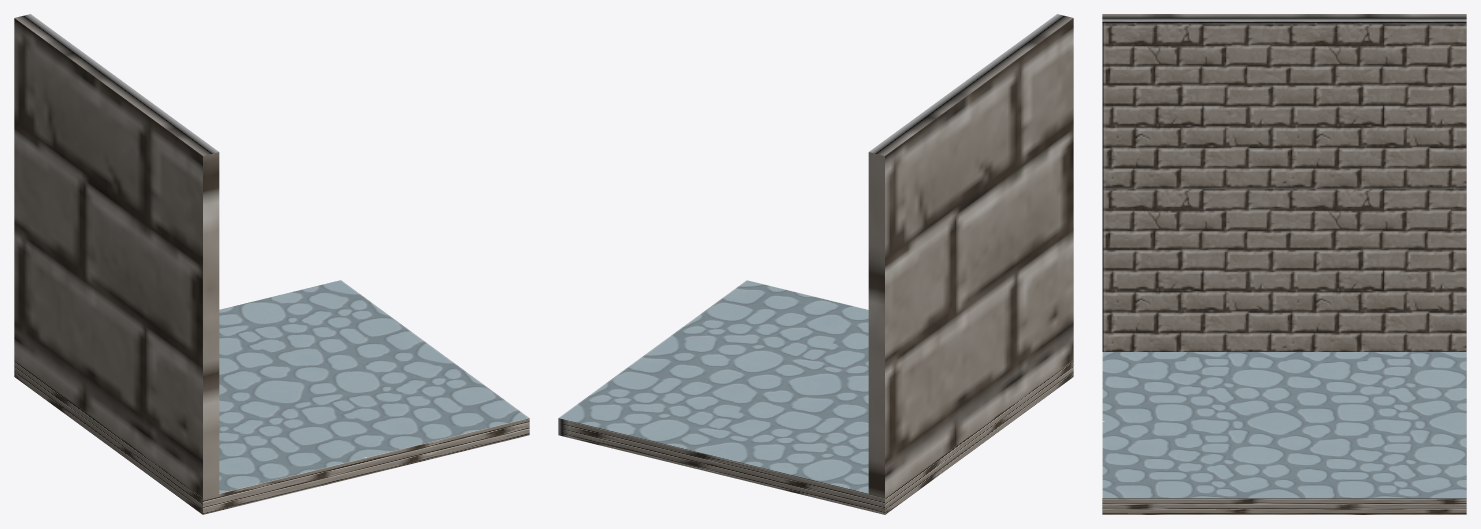
The model's file is Block.fbx.
3 renders of one model, left to right at view 1: azimuth 30°, elevation 25°; view 2: azimuth 150°, elevation 25°; view 3: azimuth 270°, elevation 25°, orthographic. The views are drawn at different scales.
Parts seen in each view (by area): view 1: wall, ground; view 2: wall, ground; view 3: wall, ground.
Boxes of the visible parts, x1,y1,x2,y2 form: wall: (14,14,219,497); ground: (14,280,529,514); wall: (868,14,1073,497); ground: (558,280,1073,514); wall: (1102,14,1466,351); ground: (1102,352,1466,514).
Size of the model in its own units: 12.5 by 13.12 by 12.5.
1 material, 1 textured.
